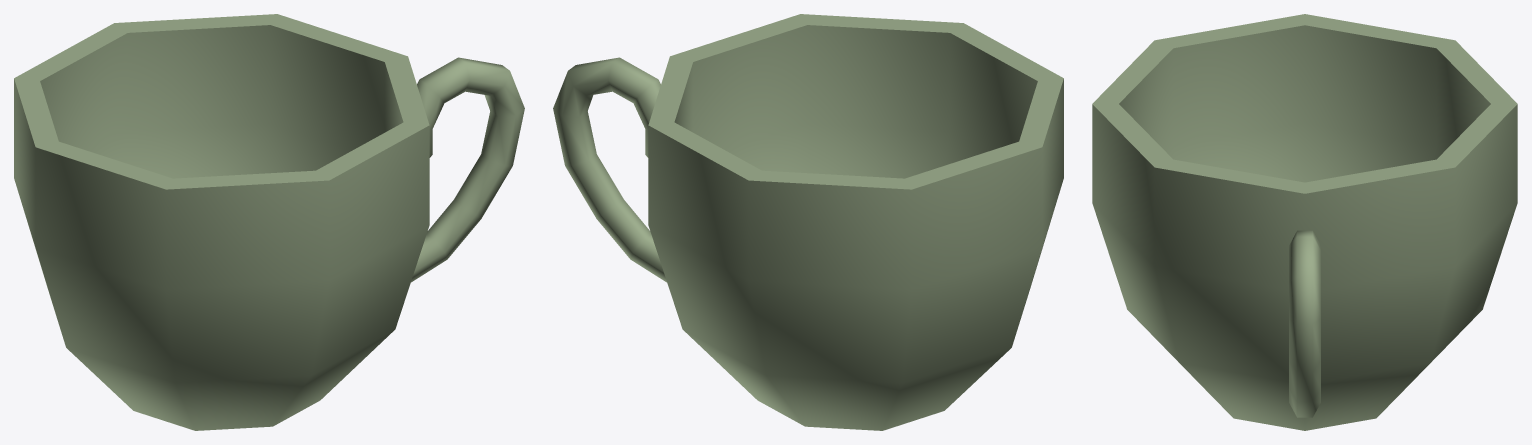
The model's file is CoffeeCup_01.fbx.
3 renders of one model, left to right at view 1: azimuth 30°, elevation 25°; view 2: azimuth 150°, elevation 25°; view 3: azimuth 270°, elevation 25°, orthographic.
Visible parts, largest first — view 1: CoffeeCup_01; view 2: CoffeeCup_01; view 3: CoffeeCup_01.
Boxes of the visible parts, x1,y1,x2,y2 form: CoffeeCup_01: (14, 14, 524, 430); CoffeeCup_01: (553, 14, 1063, 430); CoffeeCup_01: (1092, 14, 1517, 430).
Size of the model in its own units: 0.1583 by 0.0896 by 0.1215.
